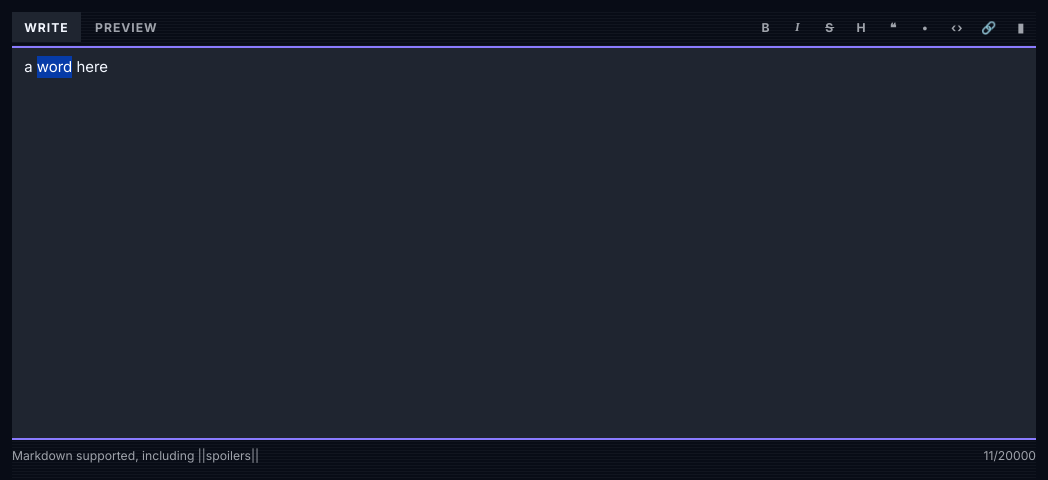
it: MarkdownEditor › toolbar › wraps the selected text
The width and height of the screenshot is (1048, 480).
Click the button named "Bold". click: (766, 27)
box: left=751, top=12, right=781, bottom=42
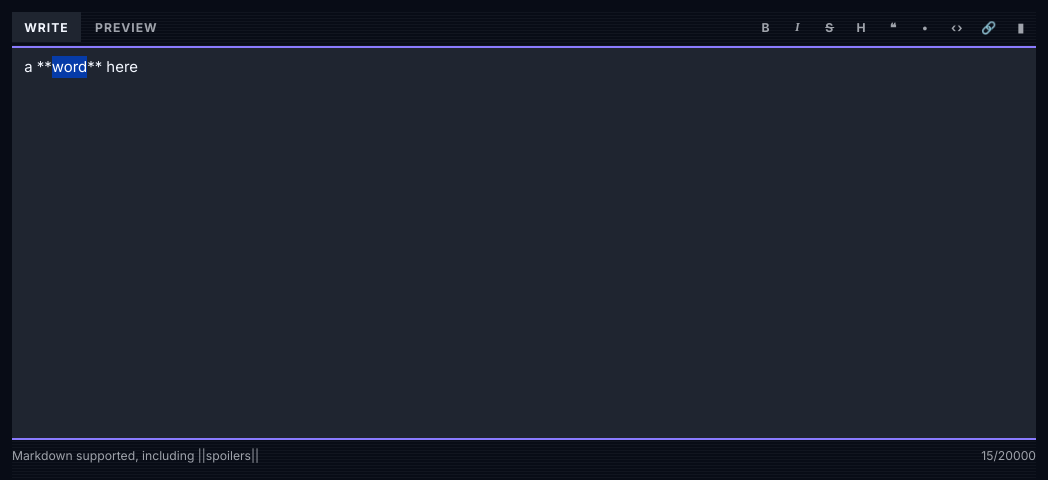
Result: the text box holds "a **word** here"
